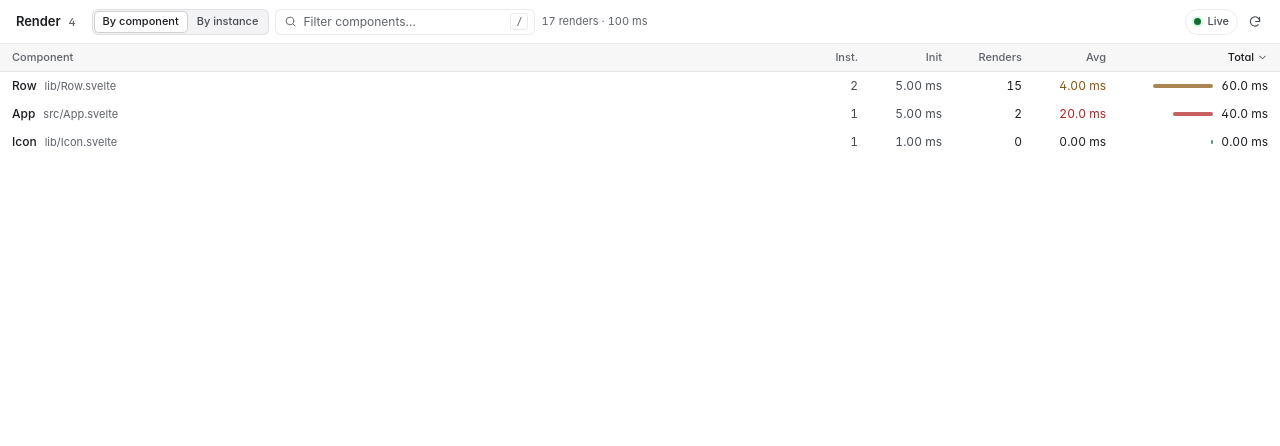
Test: RenderProfiler › filters by name or path and reports no match
Type "app" into the search field.
click(404, 22); type("app")  # box [303,10,504,34]
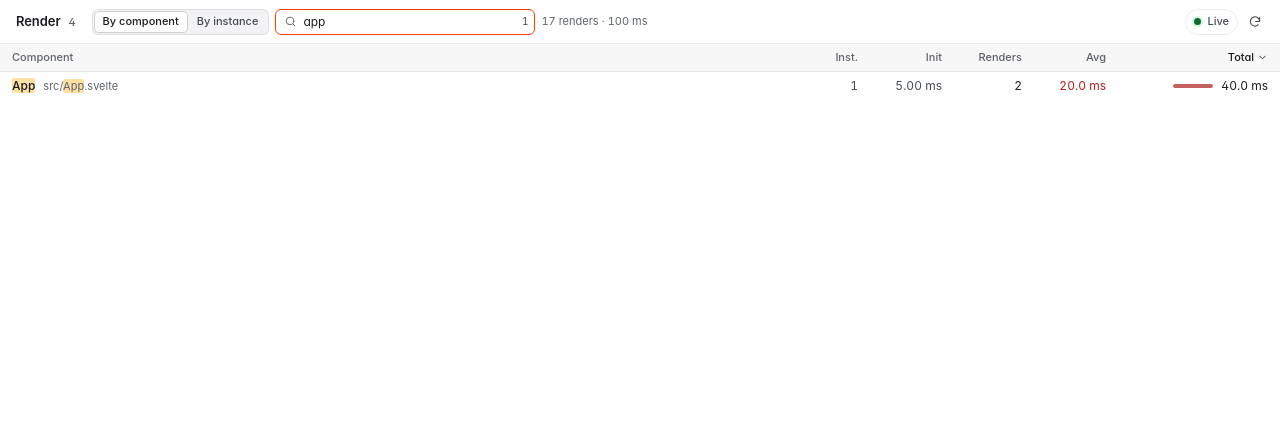
Expected: the 1st text "App" is shown, [12,78,35,93]
Type "zzz" into the search field.
click(410, 22); type("zzz")  # box [303,10,516,34]
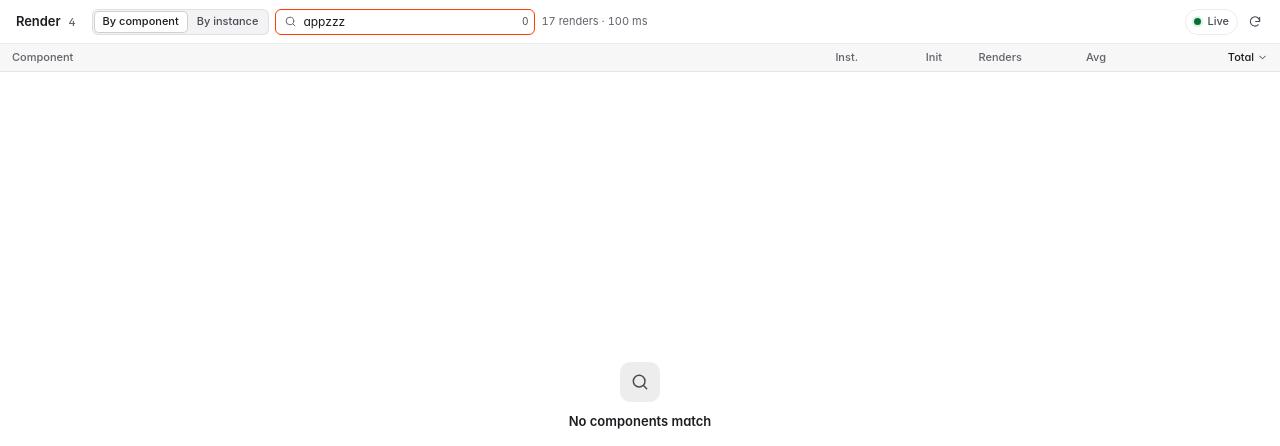
Now the message reads "No components match", box [569,413,711,429]
